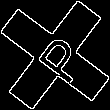P_NW: (24, 25, 86, 85)
